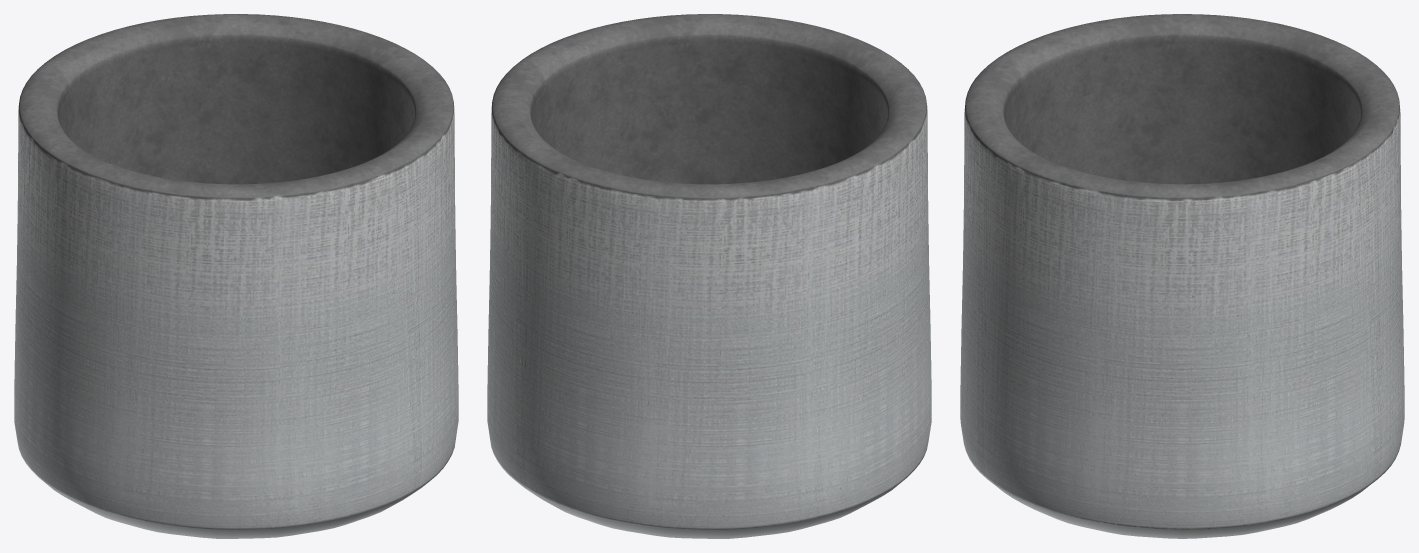
Rendered from planter_B075HXSW1X.glb.
3 views of the same model, side by side, from view 1: azimuth 30°, elevation 25°; view 2: azimuth 150°, elevation 25°; view 3: azimuth 270°, elevation 25° (orthographic).
Parts seen in each view (by area): view 1: RootNode; view 2: RootNode; view 3: RootNode.
Boxes of the visible parts, x1,y1,x2,y2 form: RootNode: (14,14,458,538); RootNode: (487,14,931,538); RootNode: (960,14,1404,538).
Bounding box in the file's own units: 0.1255 × 0.1116 × 0.1255.
1 material, 1 textured.
